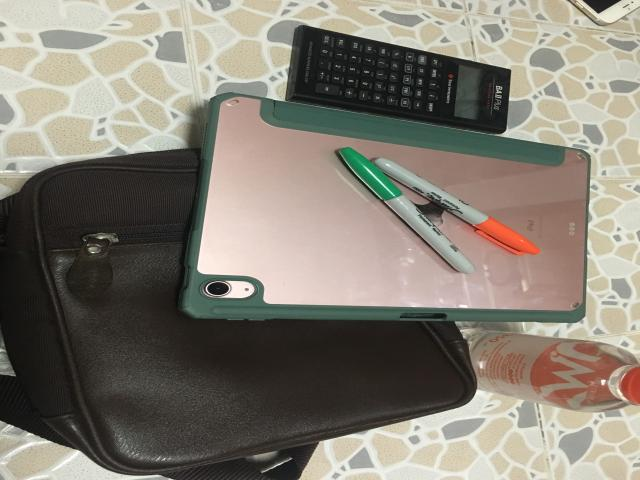Mobile phone: (570, 0, 640, 25)
Pen: (338, 147, 475, 274), (373, 158, 540, 255)
bottle: (463, 329, 640, 412)
